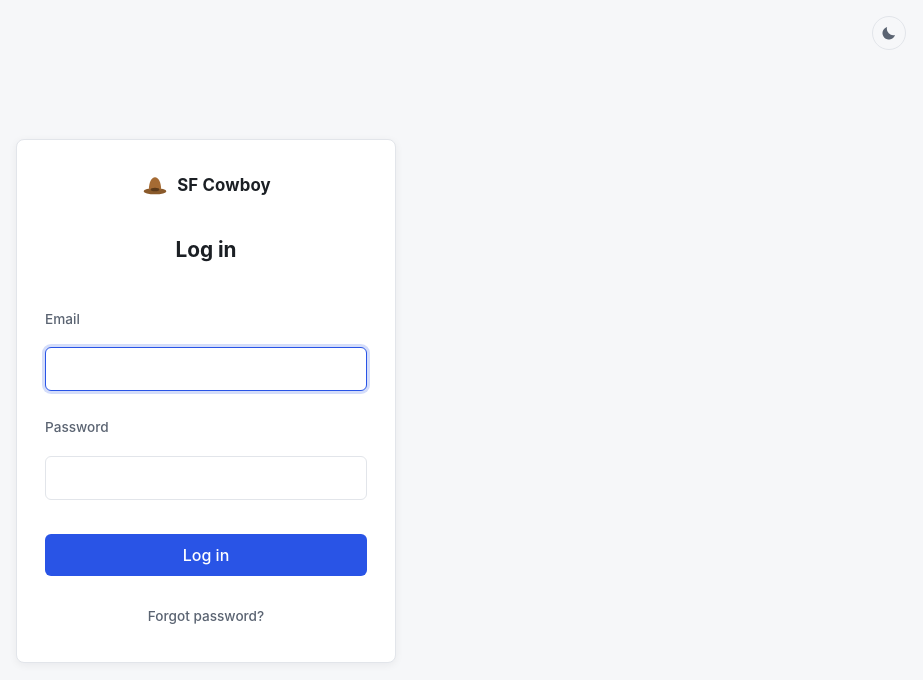
Scenario: Login › sends a password reset email and shows a confirmation instead of the form
In the field labelled "Email": (206, 369) [45,347,367,391], type "a@example.com"
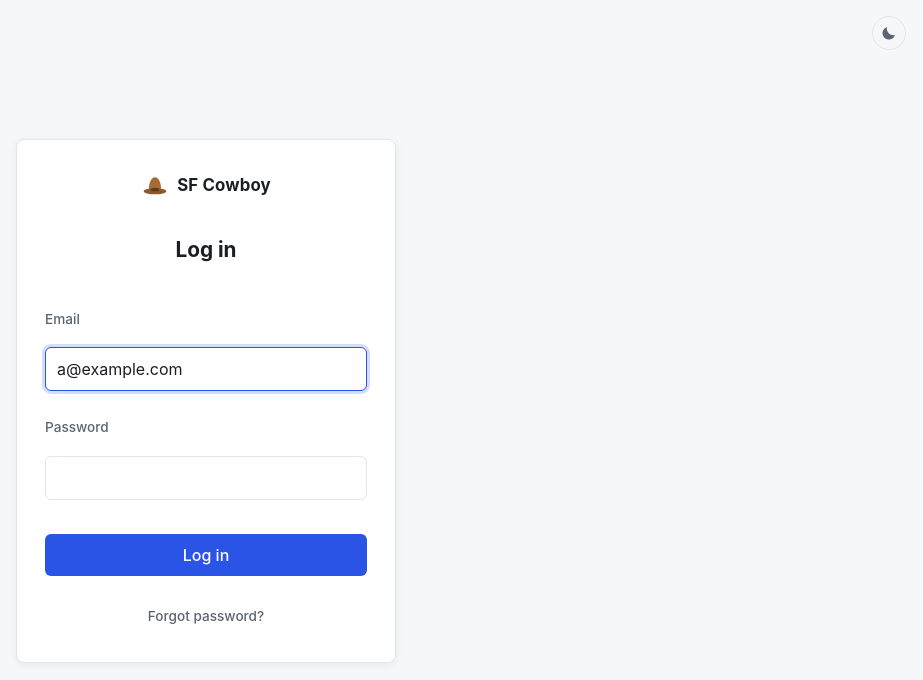
Click the button "Forgot password?": (206, 616) [144,602,268,630]
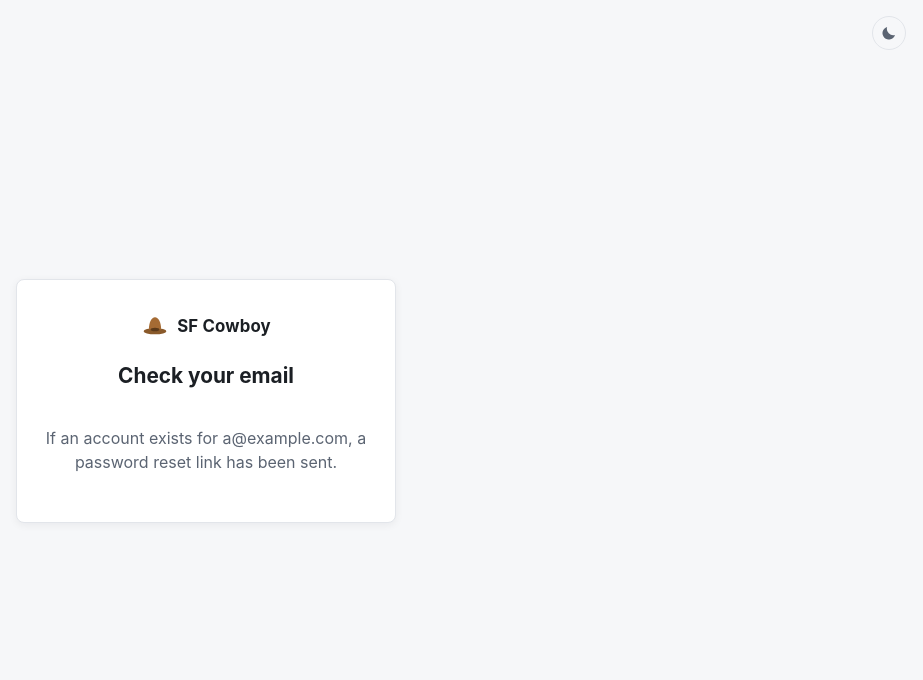
Check: the heading "Check your email" is shown, box [118,363,294,388]
